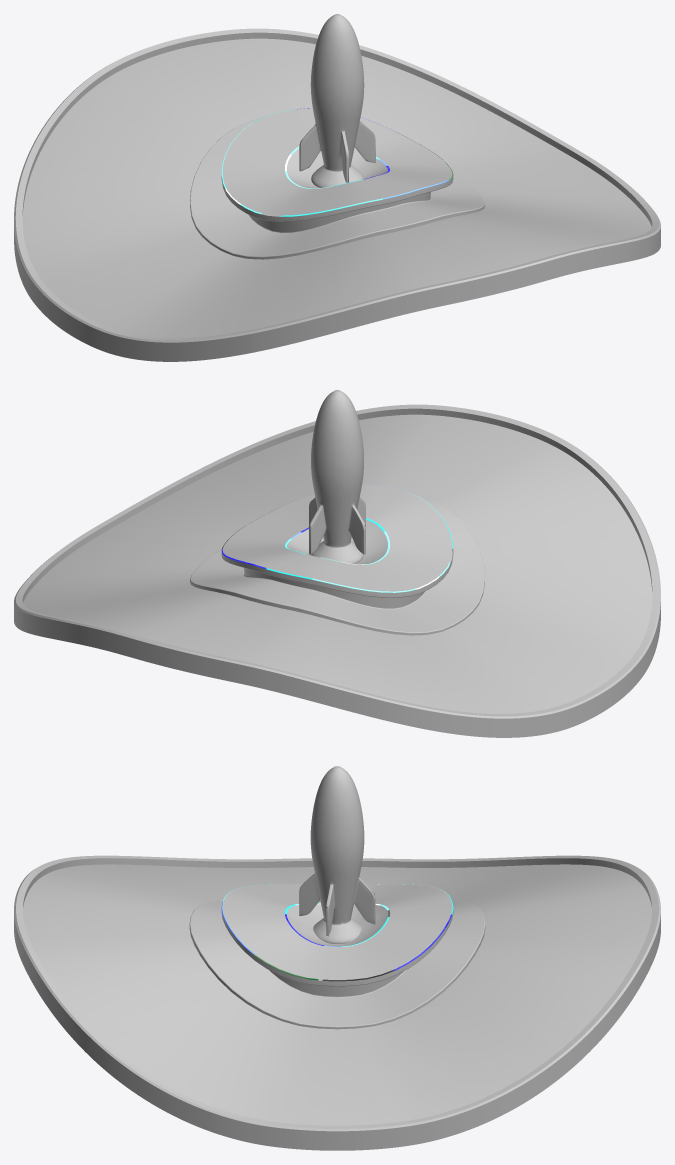
The model's file is SM_CenterHolder_01a.fbx.
The picture shows the model from 3 angles, top to bottom: view 1: azimuth 30°, elevation 25°; view 2: azimuth 150°, elevation 25°; view 3: azimuth 270°, elevation 25°; orthographic projection.
Parts seen in each view (by area): view 1: SM_CenterHolder_01a_LOD0; view 2: SM_CenterHolder_01a_LOD0; view 3: SM_CenterHolder_01a_LOD0.
Boxes of the visible parts, x1,y1,x2,y2 form: SM_CenterHolder_01a_LOD0: (14, 14, 660, 361); SM_CenterHolder_01a_LOD0: (14, 390, 660, 737); SM_CenterHolder_01a_LOD0: (14, 766, 660, 1150).
Size of the model in its own units: 1349 by 1354 by 577.
